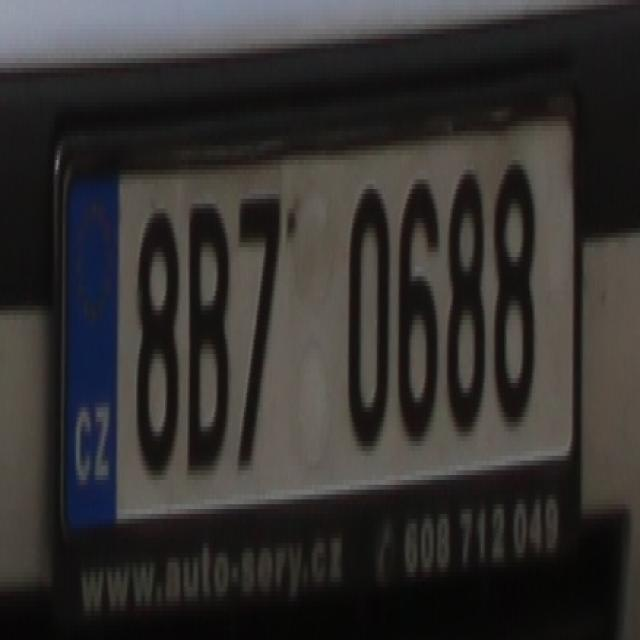0: (343, 175, 389, 436)
6: (394, 165, 437, 432)
7: (235, 189, 282, 466)
8: (136, 194, 177, 466), (494, 155, 536, 417), (444, 160, 484, 432)
B: (184, 194, 230, 461)
